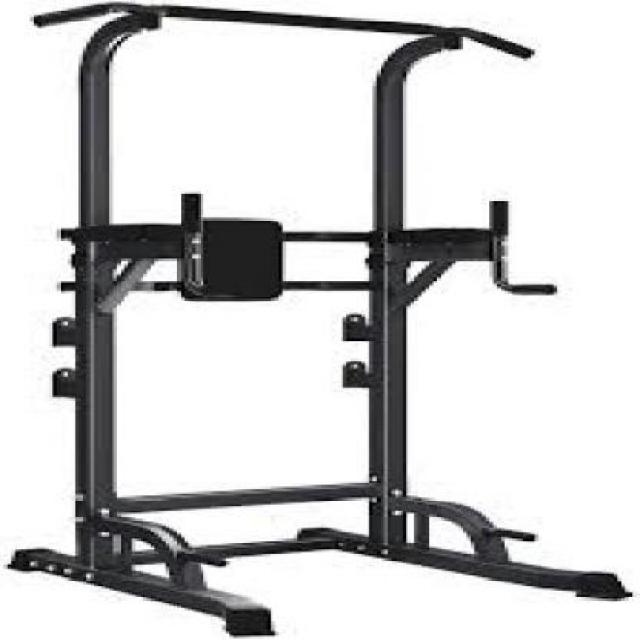chinning dipping: (11, 1, 622, 632)
